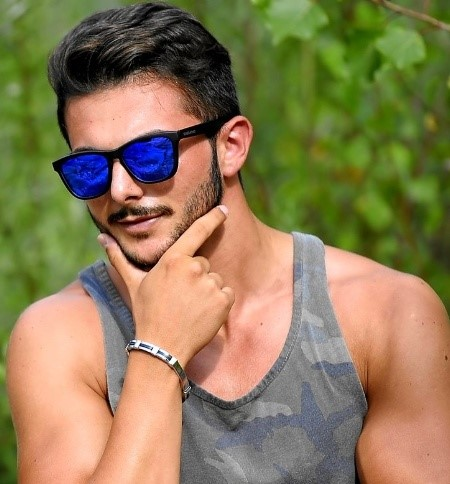face_no_mask: (55, 50, 244, 269)
